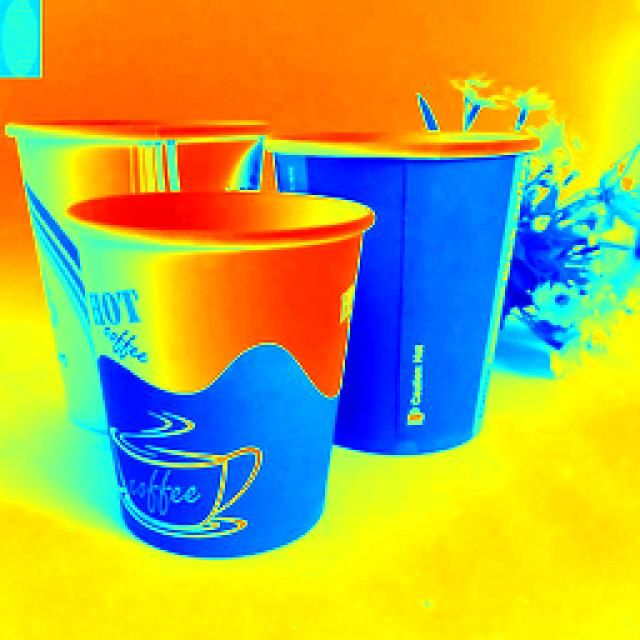Paper Cups: (3, 91, 267, 523), (72, 169, 348, 559), (279, 119, 536, 452)
